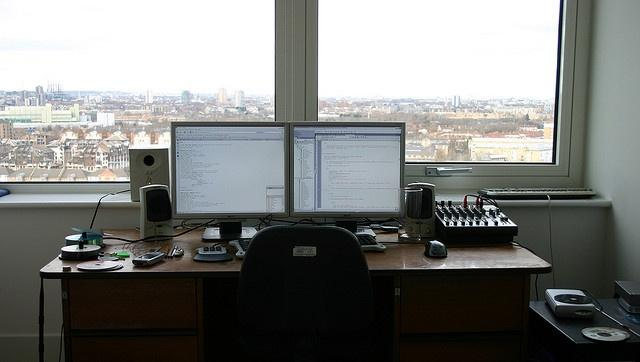AIO PC-Monitor-TV: (170, 120, 289, 218), (288, 120, 405, 218)
Meja: (39, 224, 552, 290)
